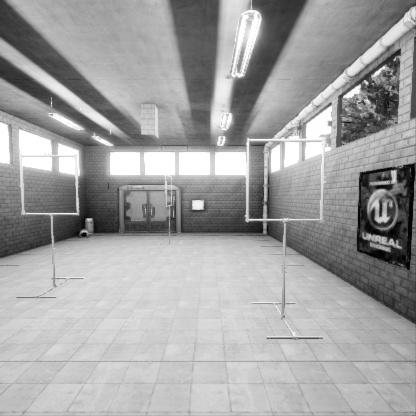gate: (249, 197, 333, 281), (26, 204, 86, 262), (165, 210, 171, 243)
